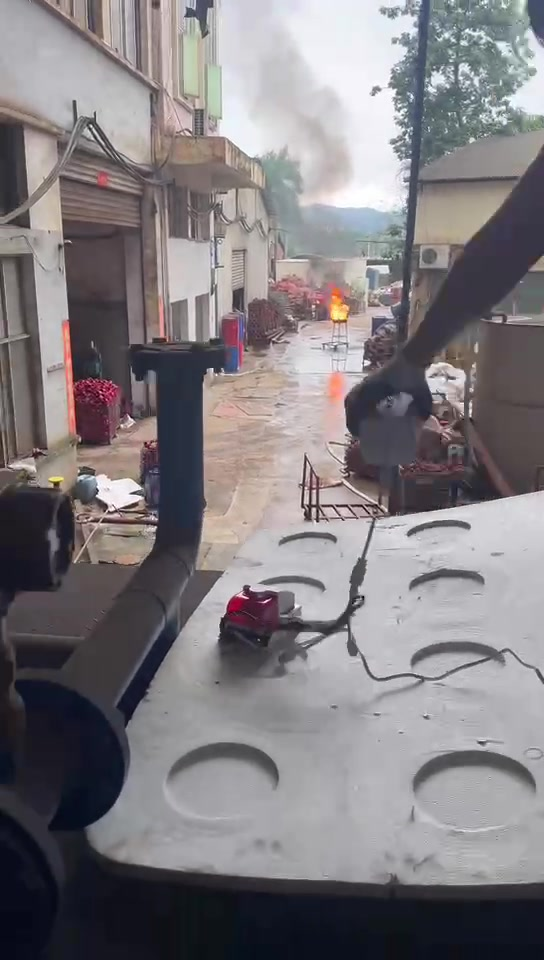fire: (328, 287, 348, 321)
